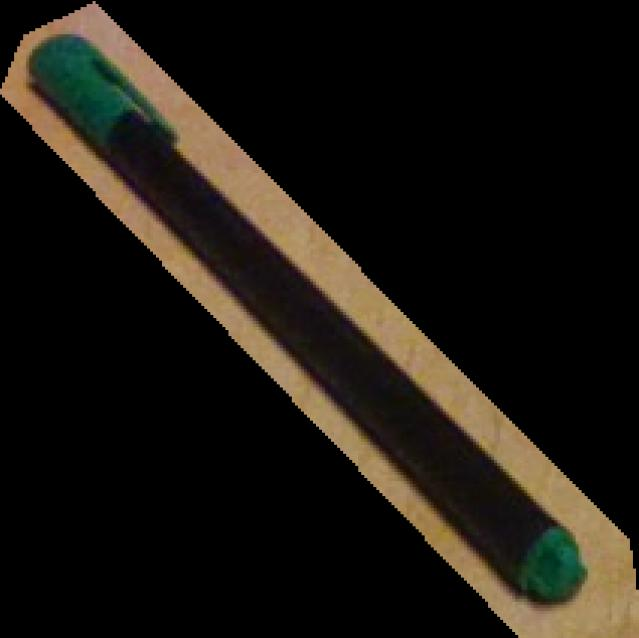green: (0, 1, 639, 638)
